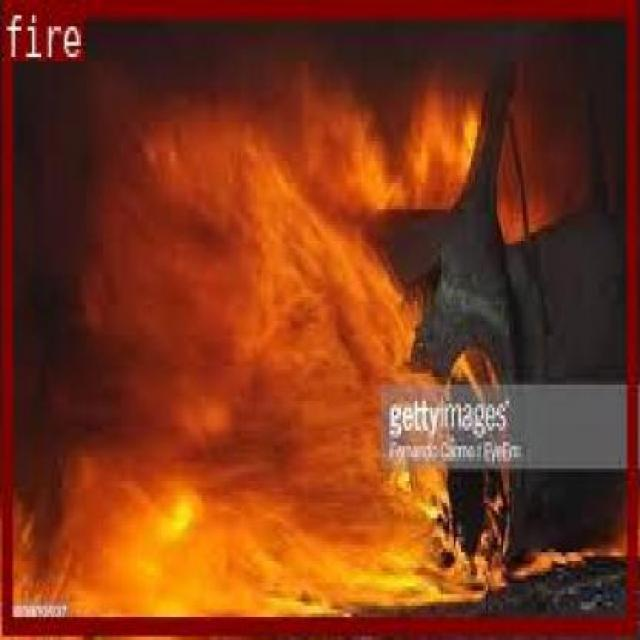Fire: (0, 0, 634, 629)
